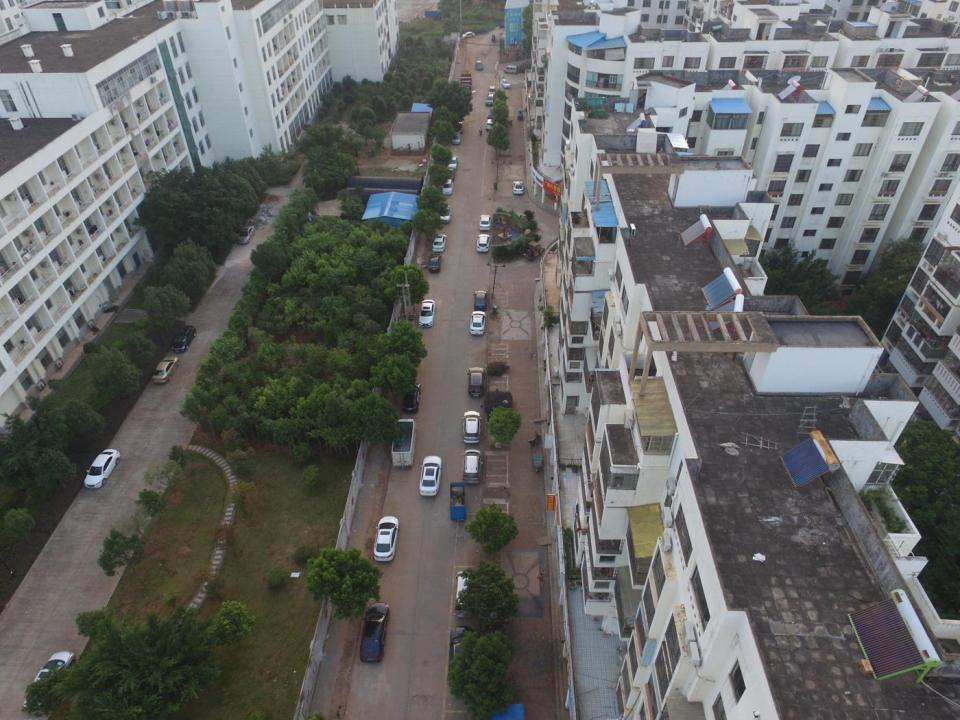car: (22, 650, 76, 715), (447, 626, 480, 686), (359, 602, 390, 663), (84, 448, 122, 489), (372, 515, 399, 562), (419, 454, 442, 496), (152, 355, 180, 384), (171, 325, 196, 353), (462, 411, 482, 444), (401, 382, 422, 413), (467, 367, 486, 397), (418, 299, 436, 328), (469, 310, 486, 335), (236, 224, 256, 245), (472, 290, 489, 312), (427, 253, 443, 273), (437, 204, 452, 224), (432, 233, 447, 252), (476, 234, 491, 252), (479, 215, 492, 231), (441, 179, 453, 195), (512, 180, 524, 195), (446, 155, 458, 170), (444, 168, 456, 181), (450, 132, 461, 145), (453, 121, 464, 133), (485, 94, 496, 106), (487, 108, 496, 121), (501, 79, 512, 89), (486, 119, 495, 131), (462, 31, 475, 39), (476, 60, 484, 71)
truck: (459, 72, 472, 94)
van: (454, 570, 478, 618), (462, 448, 484, 486), (502, 65, 518, 74), (488, 86, 496, 95)
